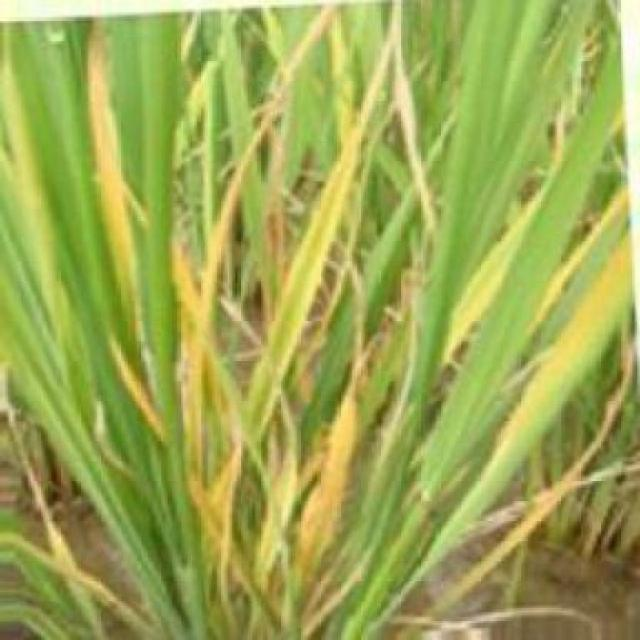Rice Tungro: (379, 237, 638, 535), (168, 5, 308, 438), (262, 55, 401, 400), (225, 373, 396, 635), (443, 170, 563, 370), (72, 20, 151, 295), (98, 348, 170, 448)
